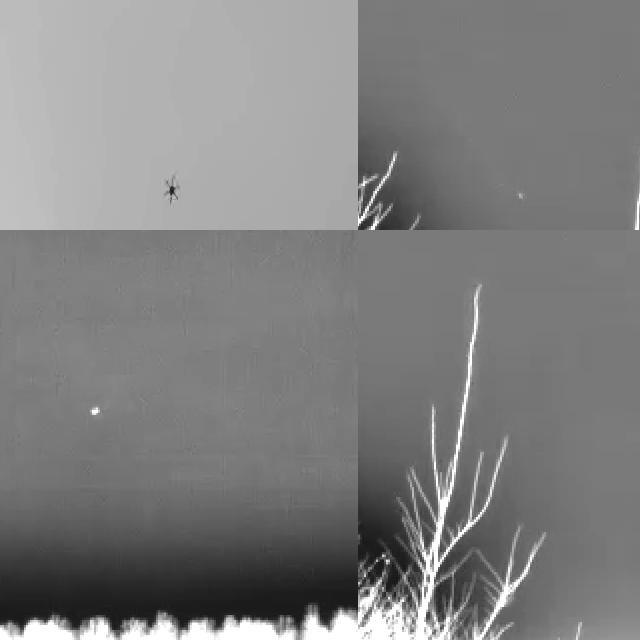0: (512, 189, 536, 211)
1: (86, 402, 110, 428)
drone: (157, 171, 180, 205)
